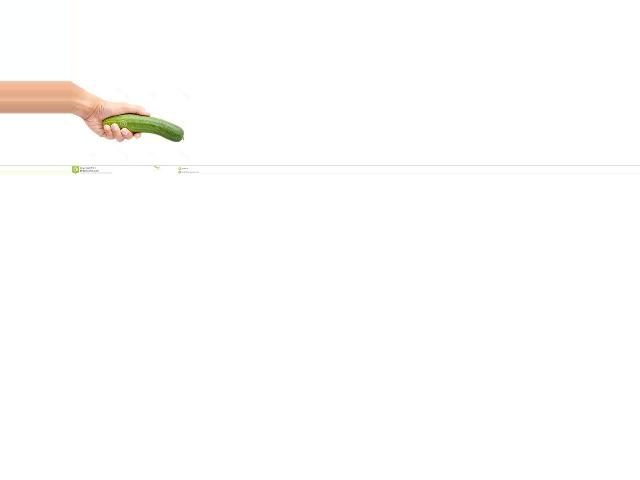cucumber: (102, 115, 184, 142)
